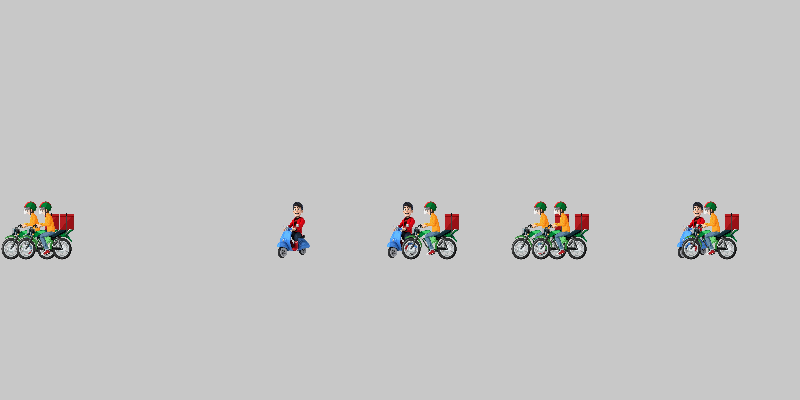helmet: (0, 200, 60, 260), (15, 200, 75, 260), (400, 200, 460, 260), (510, 200, 570, 260), (530, 200, 590, 260), (680, 200, 740, 260)
no_helmet: (265, 200, 325, 260), (375, 200, 435, 260), (665, 200, 725, 260)
